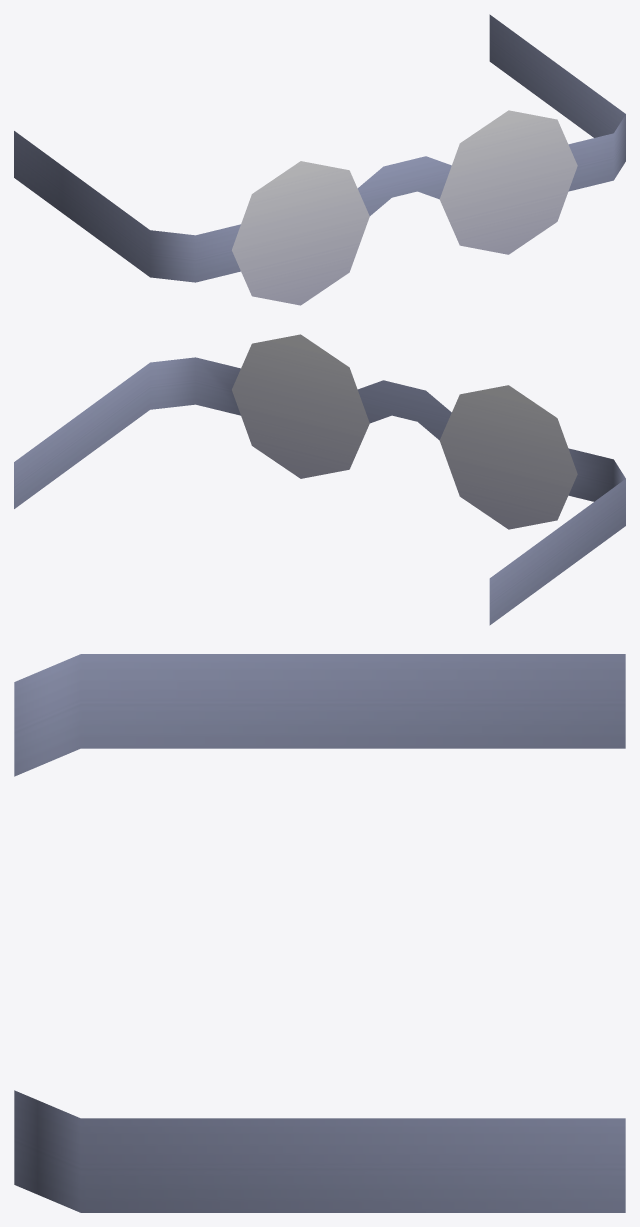
Rendered from aid-glasses.fbx.
3 renders of one model, top to bottom at view 1: azimuth 30°, elevation 25°; view 2: azimuth 150°, elevation 25°; view 3: azimuth 270°, elevation 25°, orthographic. The views are drawn at different scales.
Visible parts, largest first — view 1: aid-glasses; view 2: aid-glasses; view 3: aid-glasses.
Boxes of the visible parts, x1,y1,x2,y2 form: aid-glasses: [14, 14, 625, 305]; aid-glasses: [14, 334, 625, 625]; aid-glasses: [14, 654, 625, 1212].
Bounding box in the file's own units: 33 × 9.58 × 18.36.
